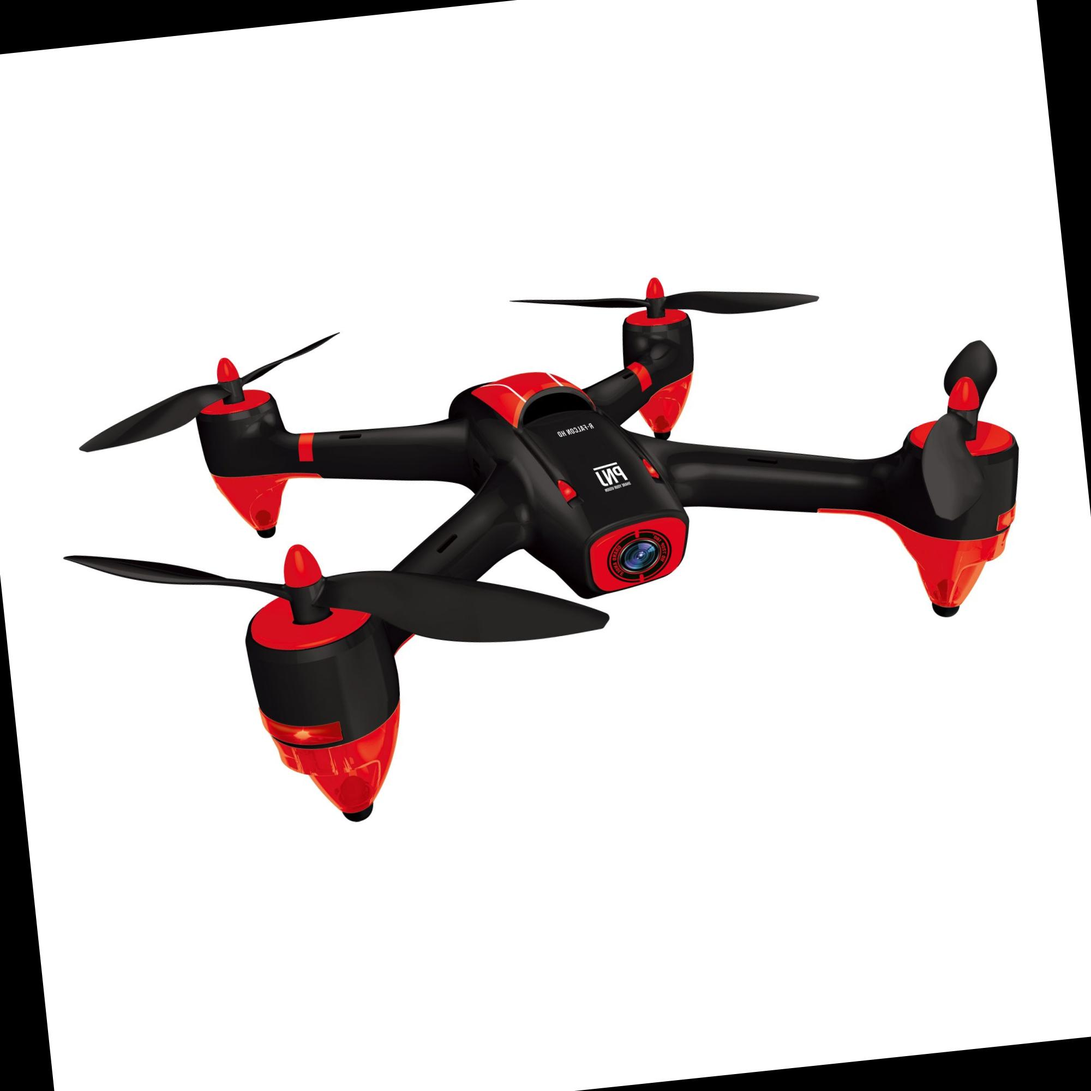drone: (0, 202, 1046, 826)
